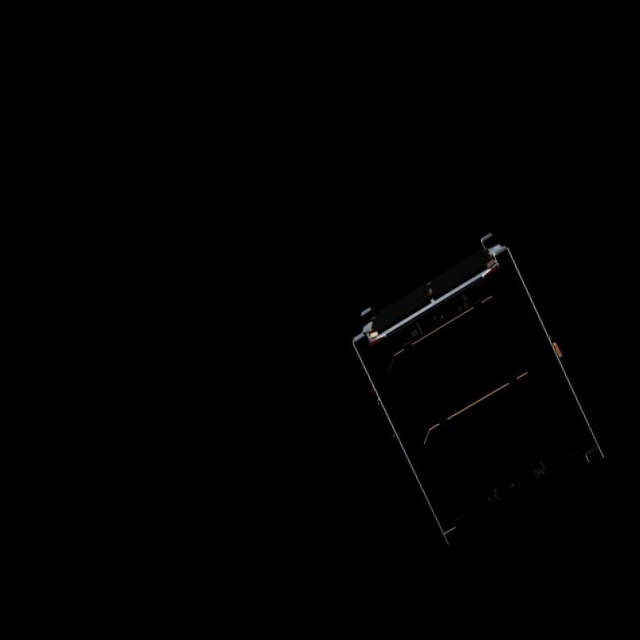satellite: (336, 214, 633, 561)
